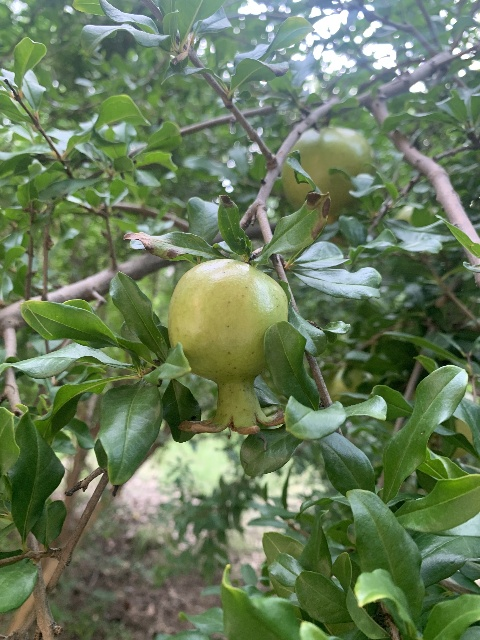mid-growth: (168, 259, 290, 437), (281, 126, 375, 230)
